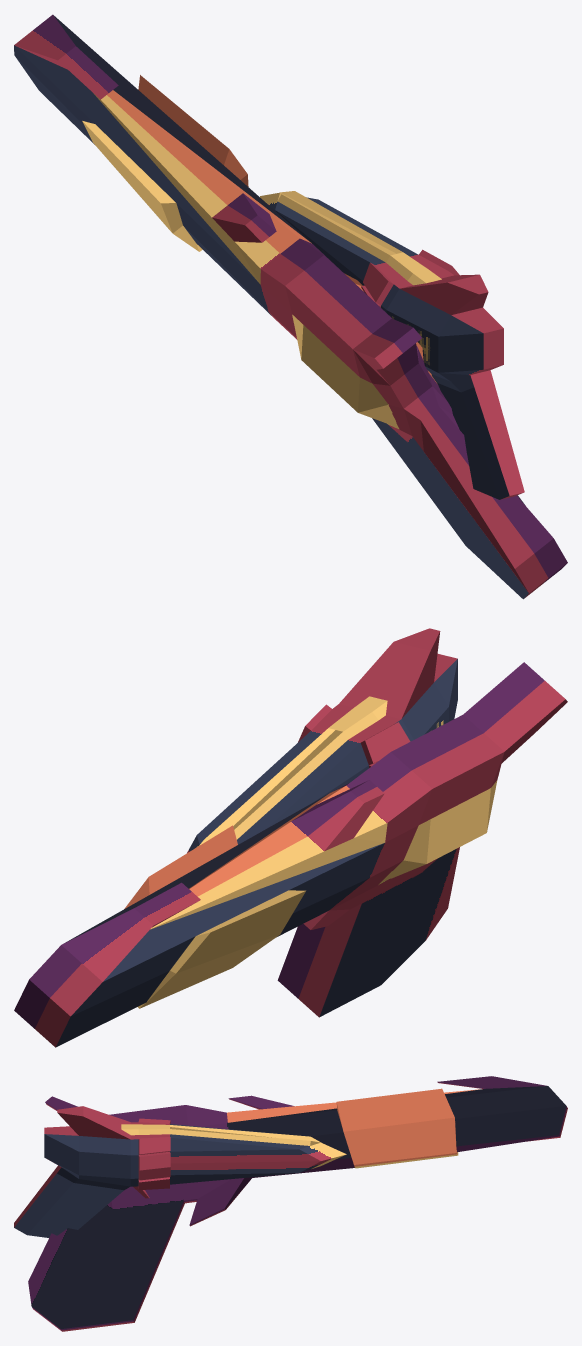
The model's file is pistol.gltf.
The picture shows the model from 3 angles, top to bottom: view 1: azimuth 30°, elevation 25°; view 2: azimuth 150°, elevation 25°; view 3: azimuth 270°, elevation 25°; orthographic projection. The views are drawn at different scales.
Parts seen in each view (by area): view 1: beveled_cuboid (×2); view 2: beveled_cuboid (×2); view 3: beveled_cuboid (×2).
Part boxes in pixels (x1,y1,x2,y2): beveled_cuboid (×2): (14, 14, 567, 599); beveled_cuboid (×2): (14, 628, 567, 1047); beveled_cuboid (×2): (14, 1076, 567, 1331).
Bounding box in the file's own units: 0.5211 × 0.874 × 2.
2 materials, 2 textured.
